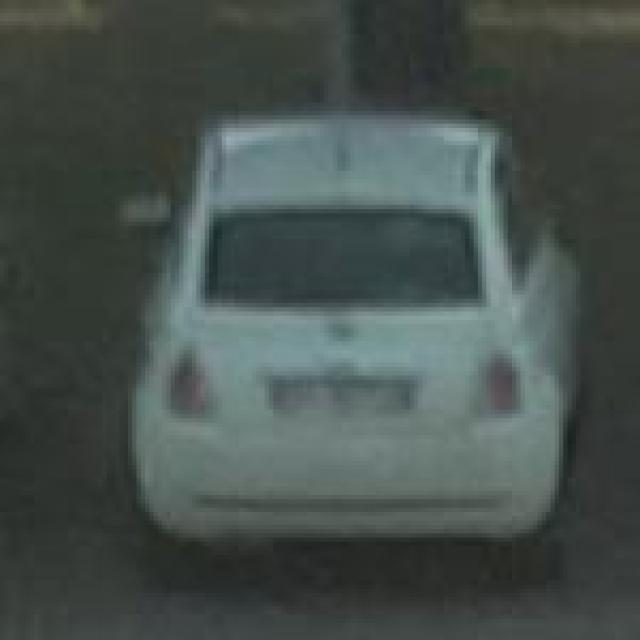cars-sUYr: (88, 64, 602, 600)
